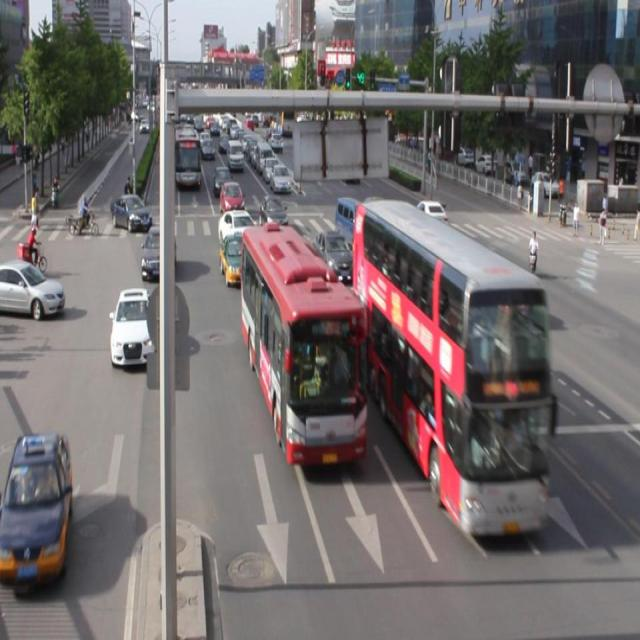car: (1, 432, 73, 585), (110, 286, 155, 366), (486, 262, 539, 326), (312, 228, 356, 283), (141, 225, 177, 278), (218, 232, 250, 284), (218, 209, 256, 250)
van: (352, 201, 550, 537), (243, 228, 366, 464)
